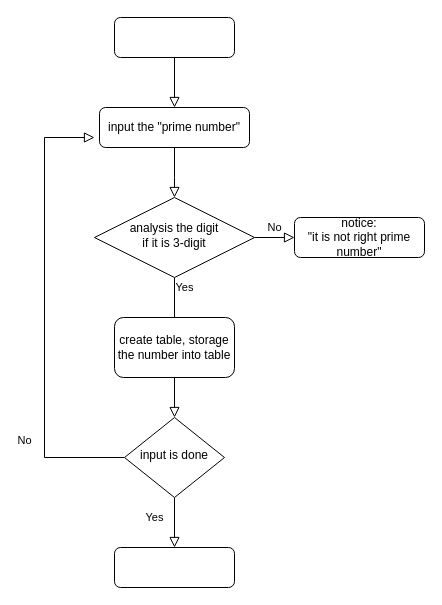
Some shapes in this 442 by 605 pixel diagram are drawn without their labels. The shapes that lost their labels are listed below. From the top down, each one's centre as x and y in pixels, then its label:
the point at 174,37: create table to storage the number
the point at 174,567: print the table
